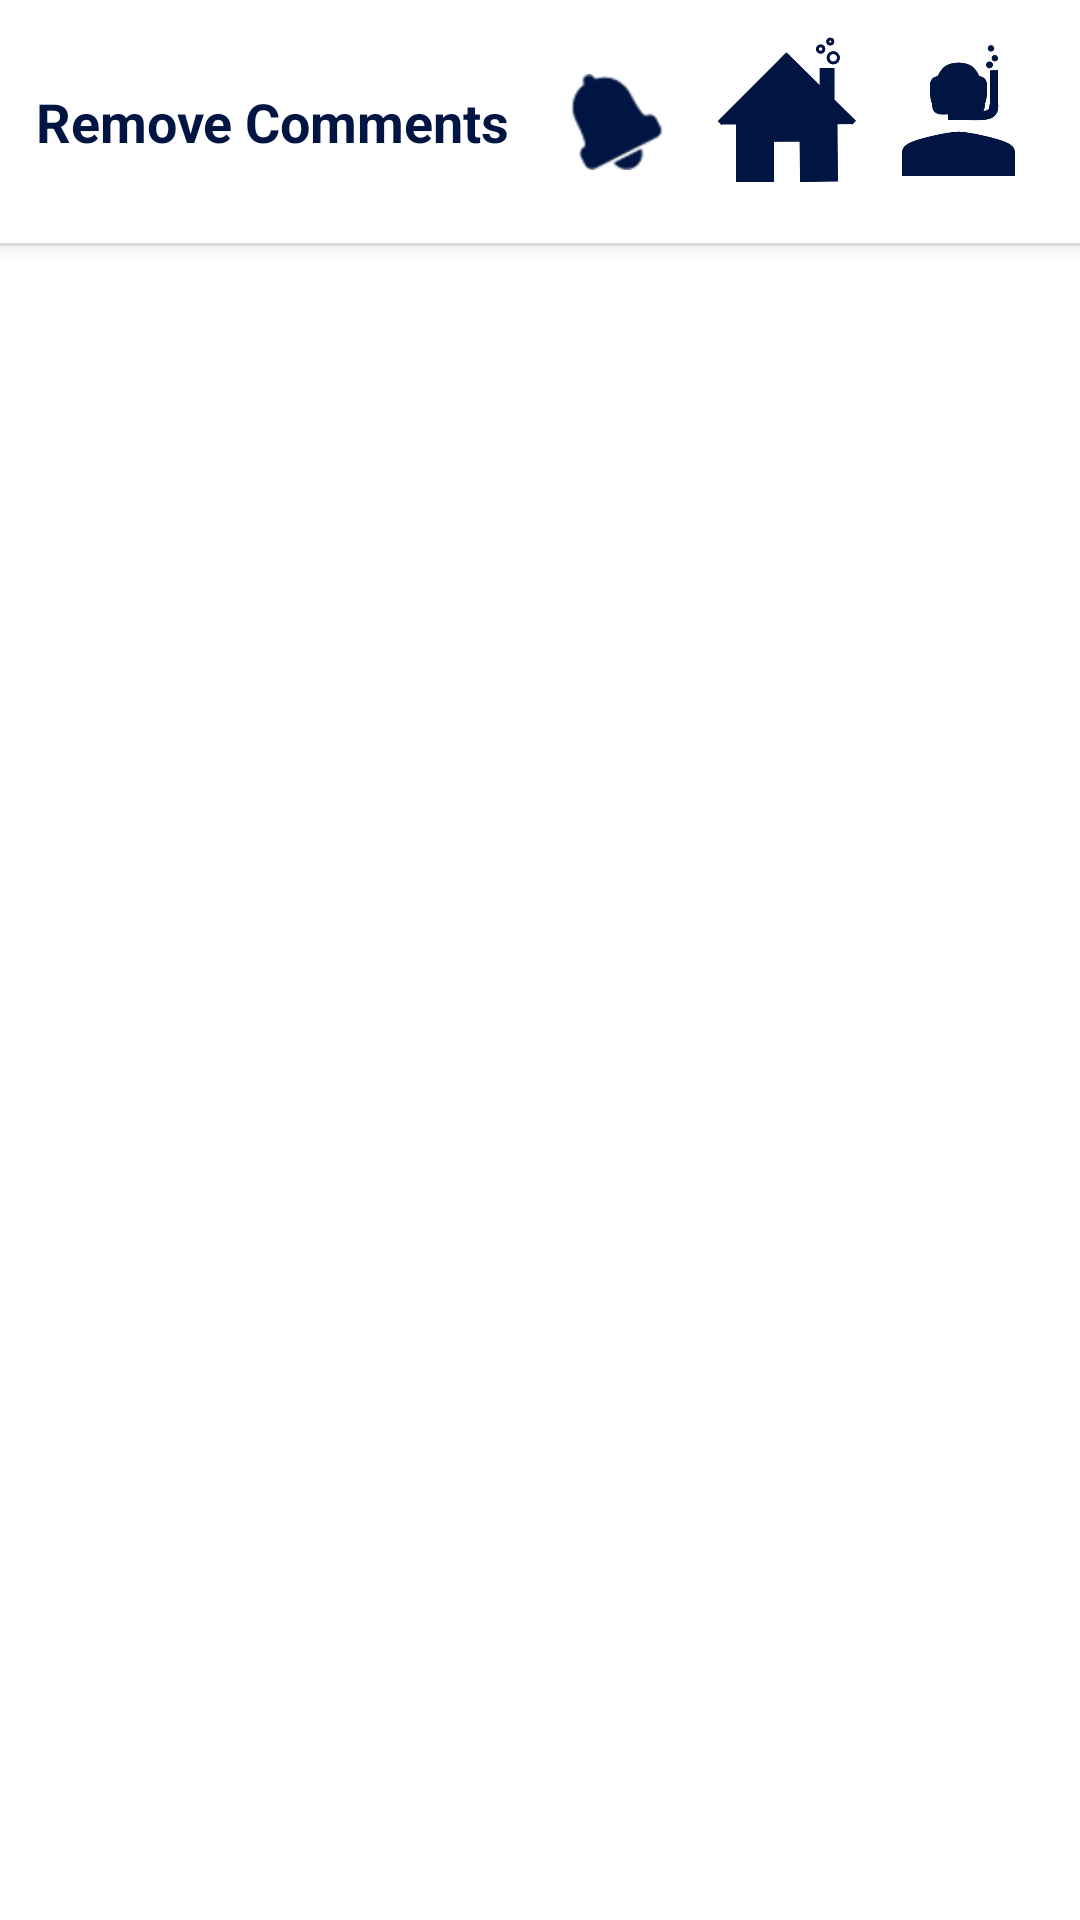

Locate icon controls on the screen. Image size 1080w x 1920h, boxes as (x1, y1, x2, y2).
hometoolbar: (718, 37, 856, 182)
popup reminder: (572, 74, 662, 170)
profiletoolbar: (902, 45, 1015, 176)
